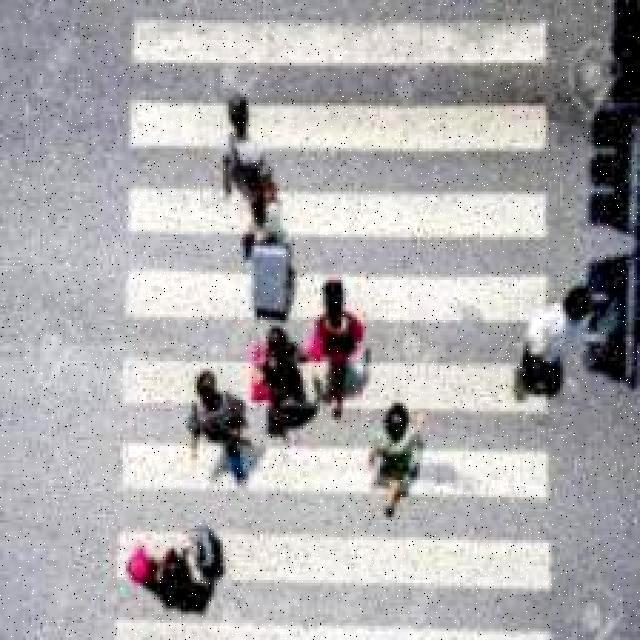crosswalk: (97, 0, 551, 640)
